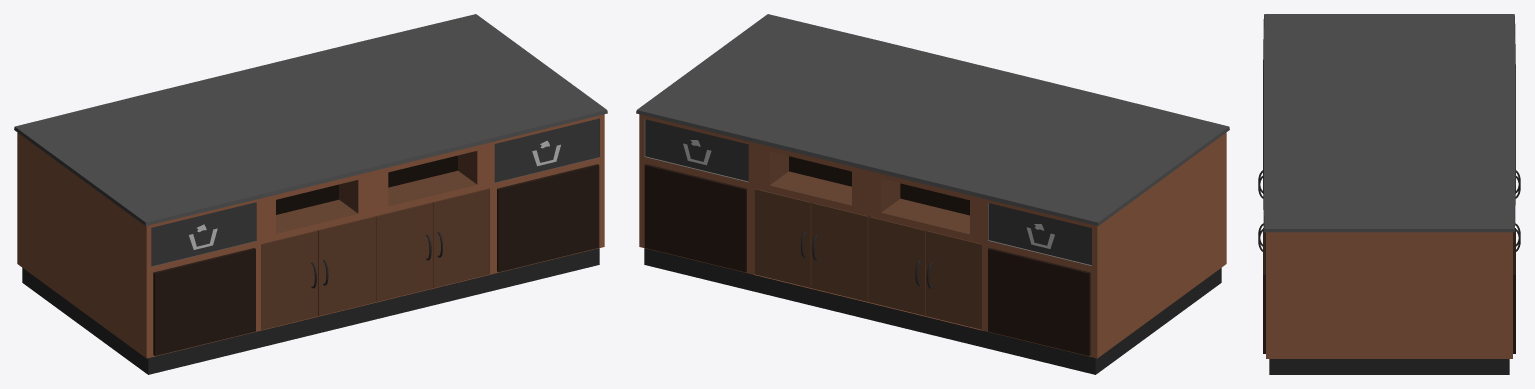
Rendered from Large Double Sided Food Counter w_Garbages Brown.fbx.
The picture shows the model from 3 angles, left to right: view 1: azimuth 30°, elevation 25°; view 2: azimuth 150°, elevation 25°; view 3: azimuth 270°, elevation 25°; orthographic projection. The views are drawn at different scales.
Parts seen in each view (by area): view 1: Large Double Sided Food Counter w_Garbages Brown; view 2: Large Double Sided Food Counter w_Garbages Brown; view 3: Large Double Sided Food Counter w_Garbages Brown.
Boxes of the visible parts, left/top/right/bottom form: Large Double Sided Food Counter w_Garbages Brown: left=14, top=14, right=607, bottom=374; Large Double Sided Food Counter w_Garbages Brown: left=636, top=14, right=1229, bottom=374; Large Double Sided Food Counter w_Garbages Brown: left=1258, top=14, right=1520, bottom=374.
Bounding box in the file's own units: 302 × 97.21 × 155.
1 material, 1 textured.
